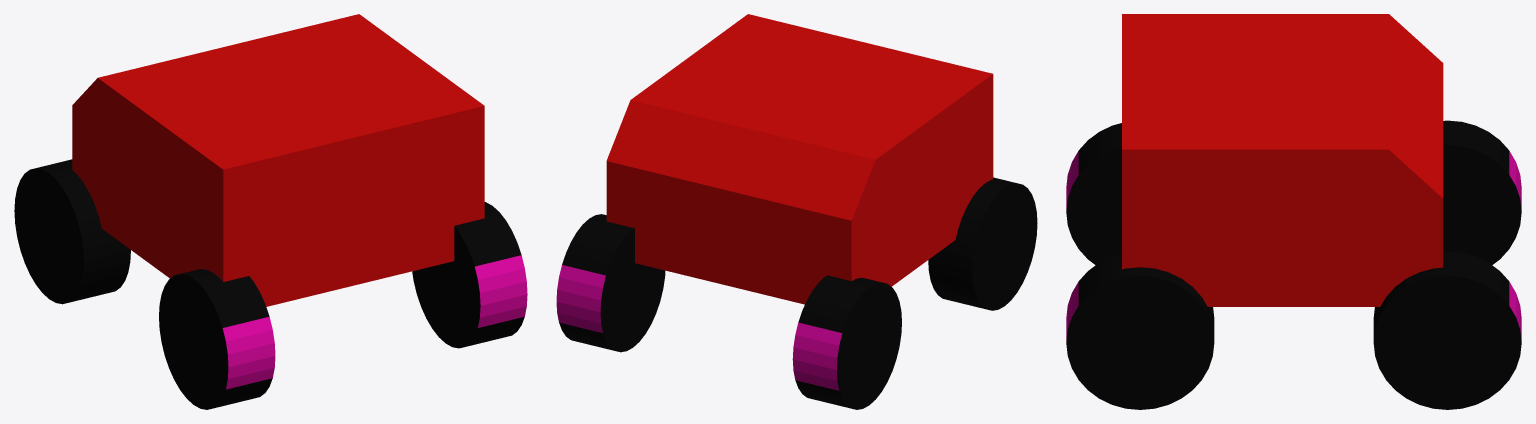
File: block_car.glb
The picture shows the model from 3 angles, left to right: view 1: azimuth 30°, elevation 25°; view 2: azimuth 150°, elevation 25°; view 3: azimuth 270°, elevation 25°; orthographic projection. The views are drawn at different scales.
Parts seen in each view (by area): view 1: body, back_left_wheel, front_left_wheel, back_right_wheel; view 2: body, front_left_wheel, front_right_wheel, back_left_wheel; view 3: body, front_right_wheel, back_right_wheel, front_left_wheel, back_left_wheel.
Boxes of the visible parts, x1,y1,x2,y2 form: body: [72, 14, 484, 306]; back_left_wheel: [159, 269, 275, 409]; front_left_wheel: [14, 159, 130, 304]; back_right_wheel: [412, 202, 527, 348]; body: [606, 14, 993, 304]; front_left_wheel: [792, 275, 901, 409]; front_right_wheel: [556, 214, 665, 352]; back_left_wheel: [928, 177, 1037, 310]; body: [1122, 14, 1443, 306]; front_right_wheel: [1373, 251, 1521, 409]; back_right_wheel: [1066, 254, 1214, 409]; front_left_wheel: [1443, 120, 1521, 264]; back_left_wheel: [1066, 123, 1121, 264].
Bounding box in the file's own units: 2.29 × 1.73 × 2.84.
1 material, 1 textured.
